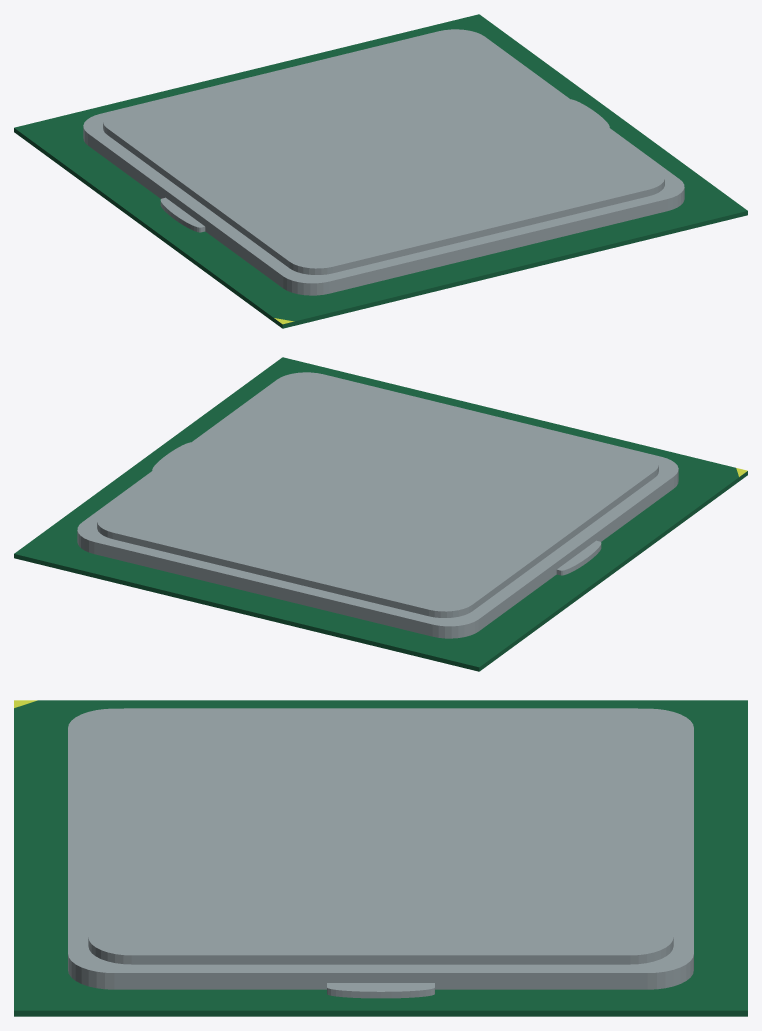
File: CPU.fbx
3 views of the same model, one above another, from view 1: azimuth 30°, elevation 25°; view 2: azimuth 150°, elevation 25°; view 3: azimuth 270°, elevation 25° (orthographic). The views are drawn at different scales.
Visible parts, largest first — view 1: CPU; view 2: CPU; view 3: CPU.
Part boxes in pixels (bbox=[...]): CPU: bbox=[14, 14, 747, 328]; CPU: bbox=[14, 357, 747, 671]; CPU: bbox=[14, 700, 747, 1016].
Bounding box in the file's own units: 200 × 9.52 × 200.
